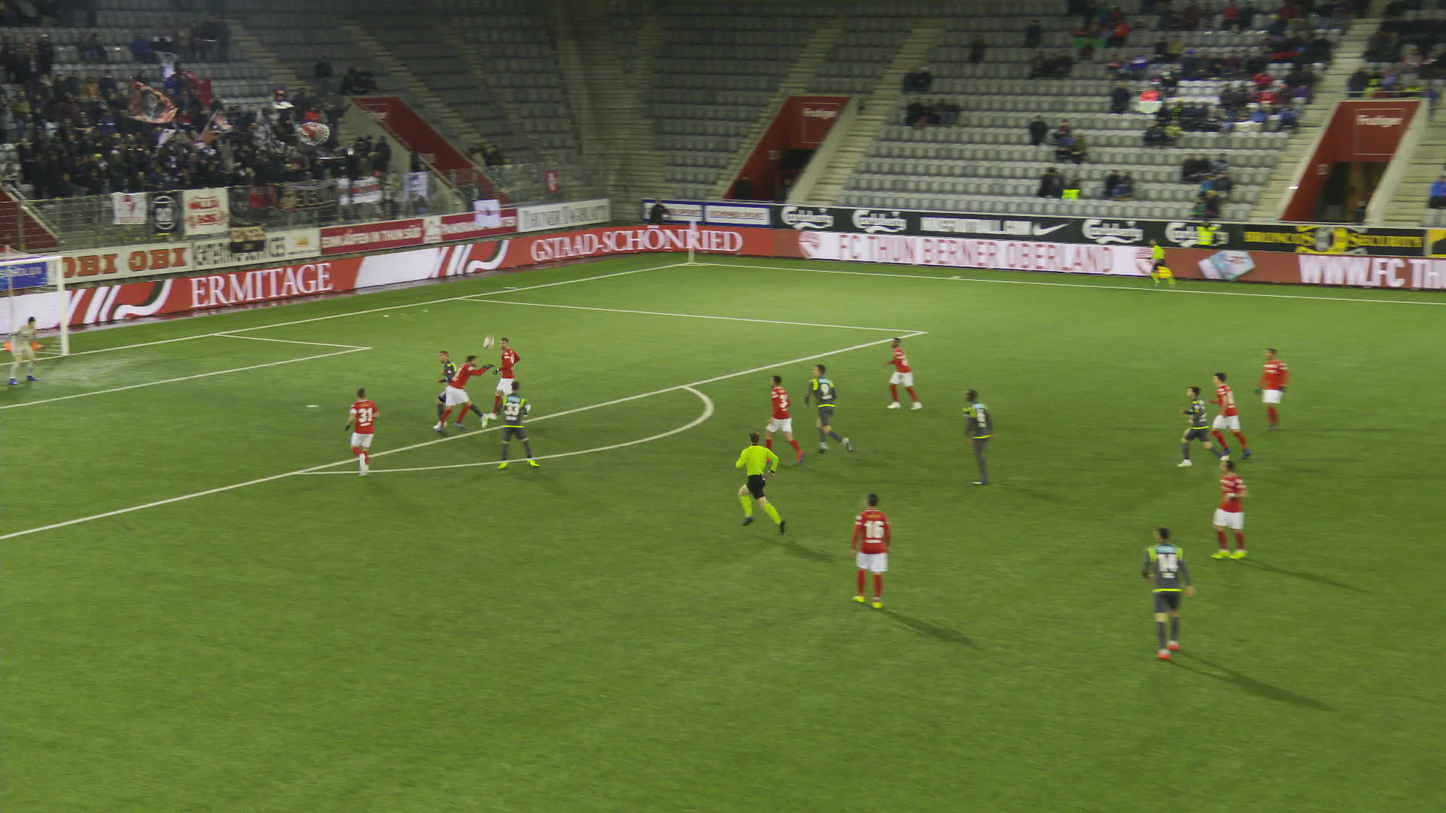ball: (497, 319, 512, 332)
player: (1128, 521, 1189, 663), (837, 489, 892, 610), (425, 352, 490, 439), (1193, 455, 1246, 561), (795, 363, 846, 457), (484, 379, 535, 472), (749, 374, 799, 467), (430, 349, 485, 433), (1198, 368, 1247, 461), (1173, 383, 1223, 472), (948, 384, 990, 487), (1237, 344, 1284, 431), (336, 386, 380, 478), (875, 333, 917, 412), (481, 335, 520, 418), (5, 314, 38, 383)
referee: (727, 432, 788, 536), (1136, 238, 1173, 288)
